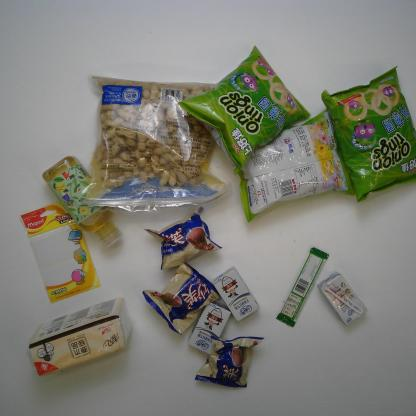Chocolate: (276, 246, 330, 328)
Dessert: (142, 261, 221, 337), (144, 204, 224, 270), (193, 335, 265, 388)
Dried Food: (80, 73, 234, 213)
Drink: (42, 155, 124, 249)
Milk: (316, 271, 368, 326), (211, 265, 260, 322), (186, 301, 232, 355)
Puffed Food: (177, 45, 312, 176), (237, 108, 355, 223), (320, 65, 416, 204)
Stationery: (17, 200, 103, 304)
Tissue: (25, 297, 135, 377)
